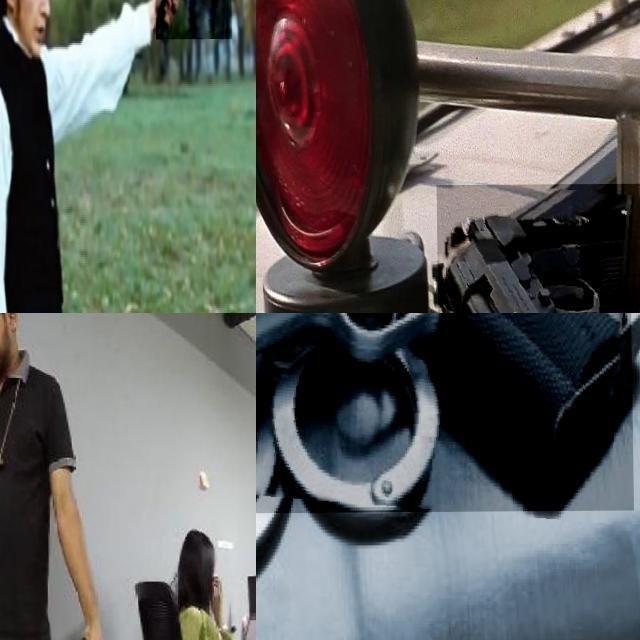gun-knife-thesis - v11 Yolov5 augmented: (256, 313, 632, 521), (435, 184, 640, 313), (153, 0, 231, 55)
